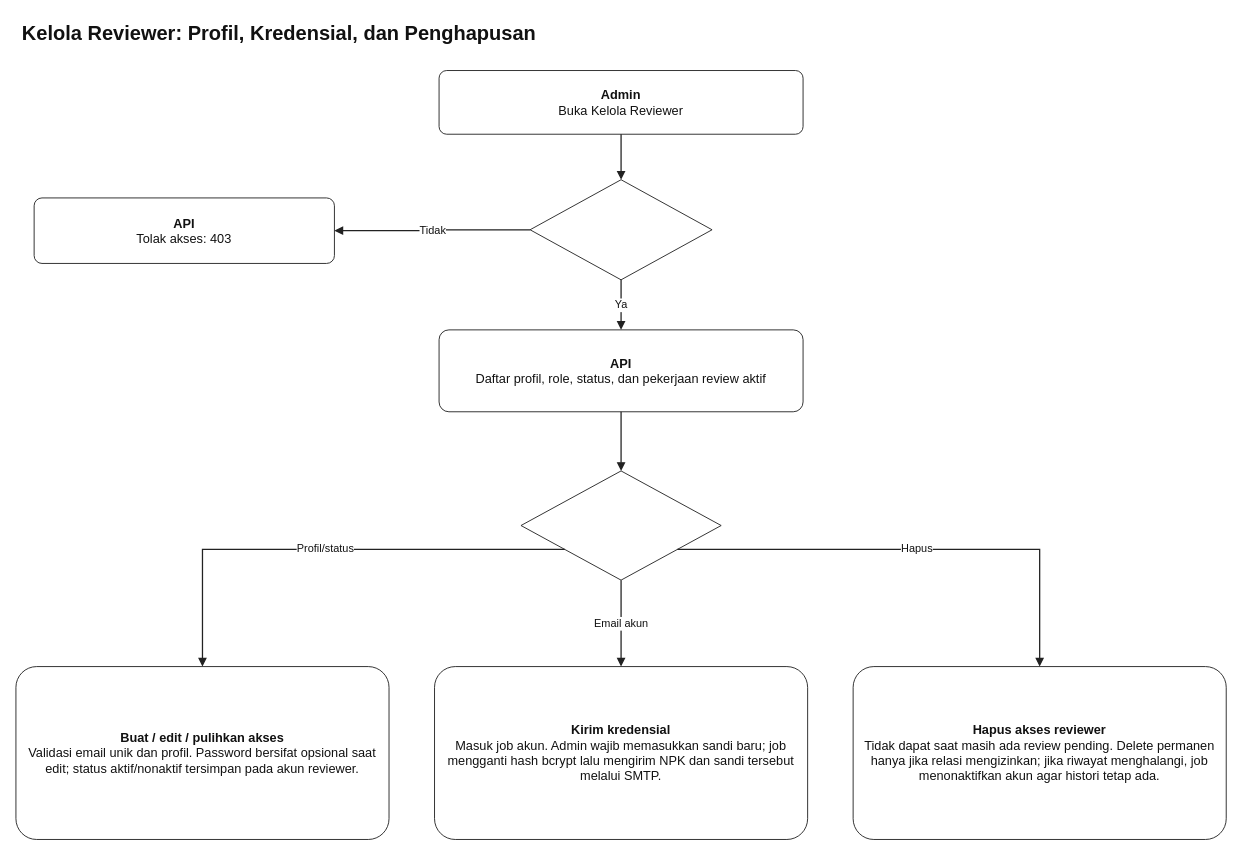
The diagram is 1242 pixels wide and 855 high, and some of its shapes have lost their labels. The centre of each missing label's shape, as x and y in pixels:
Admin Pilih aksi: point (620, 525)
API Admin aktif?: point (620, 229)
